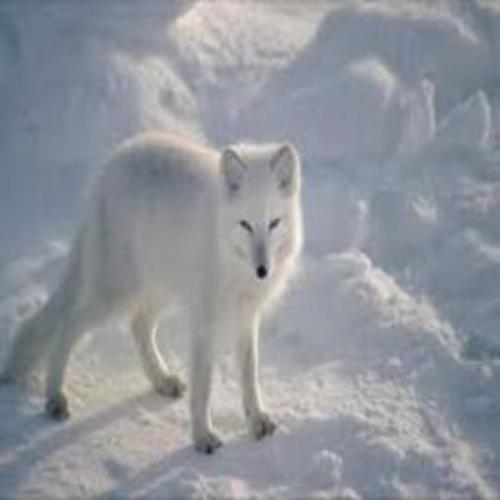arctic_fox-endangered: (0, 127, 308, 456)
